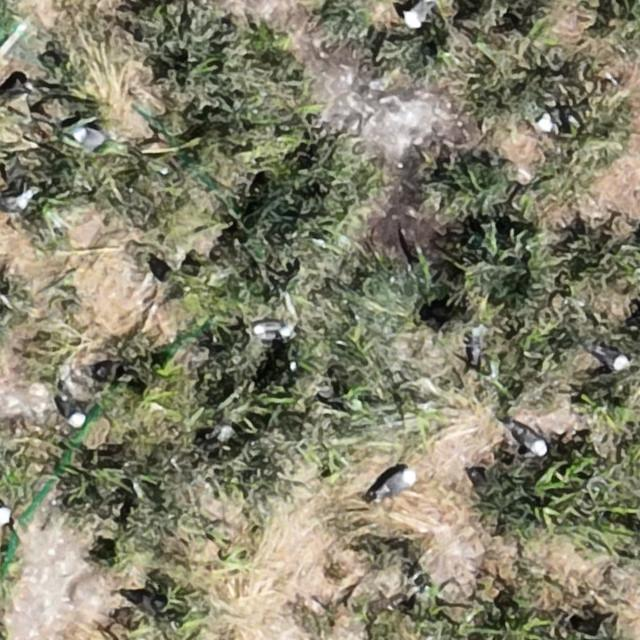umineko: (516, 428, 546, 456), (381, 470, 415, 494), (405, 2, 434, 27), (596, 346, 628, 368), (61, 396, 84, 426), (74, 127, 104, 148), (3, 191, 31, 210), (254, 321, 282, 338), (533, 112, 553, 134), (0, 504, 9, 526)
